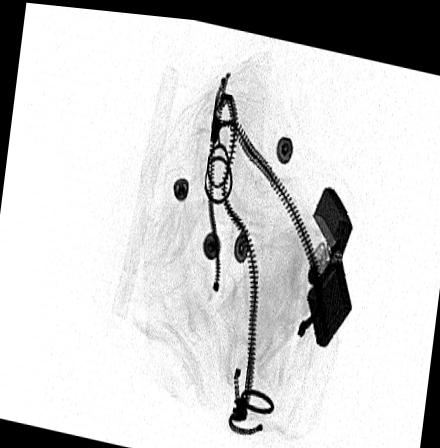Lighter: (306, 177, 354, 341)
